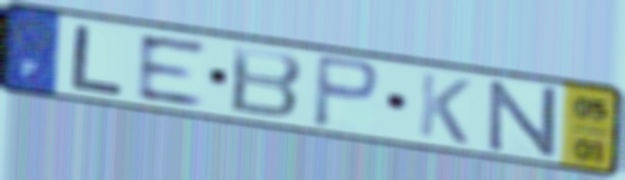B: (226, 42, 306, 122)
E: (135, 32, 209, 109)
K: (414, 69, 475, 148)
L: (66, 22, 127, 99)
N: (485, 79, 560, 160)
P: (309, 51, 384, 132)
